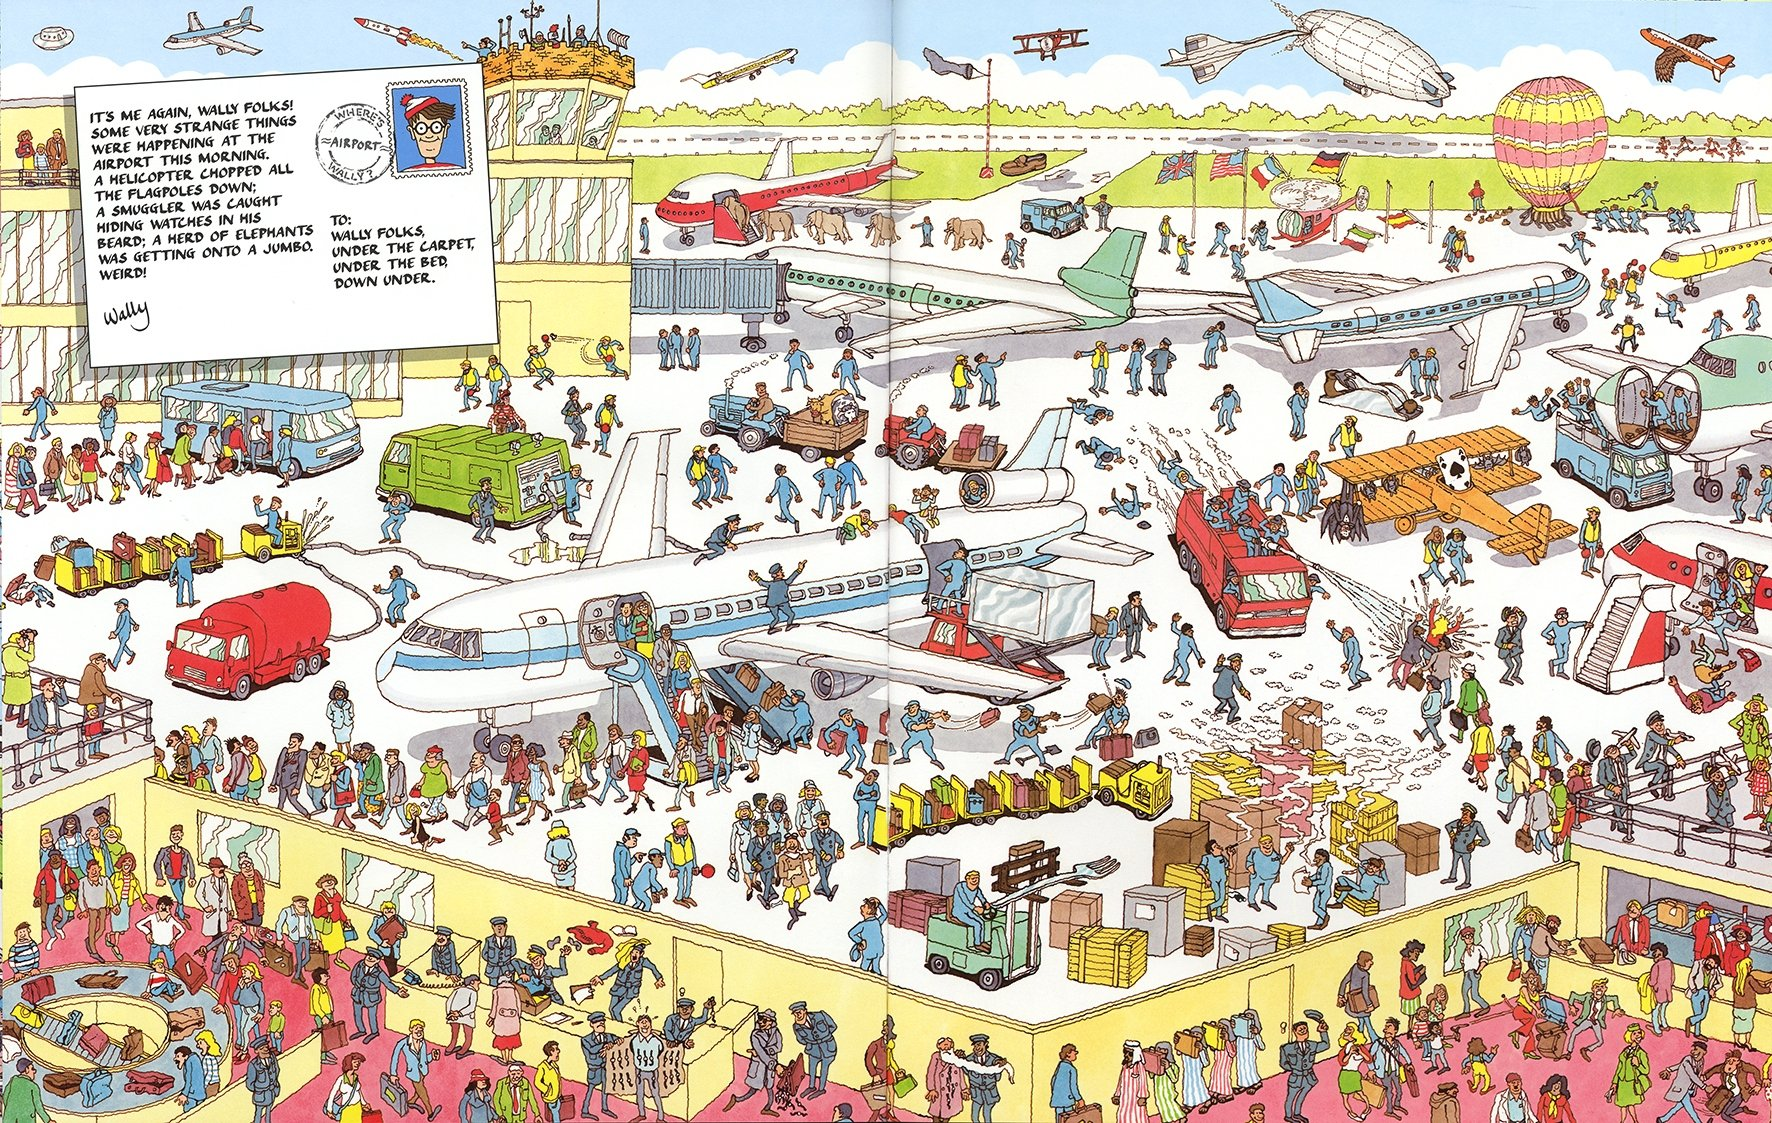waldo: (397, 90, 465, 170), (489, 390, 530, 435)
wenda: (1574, 758, 1596, 808)
